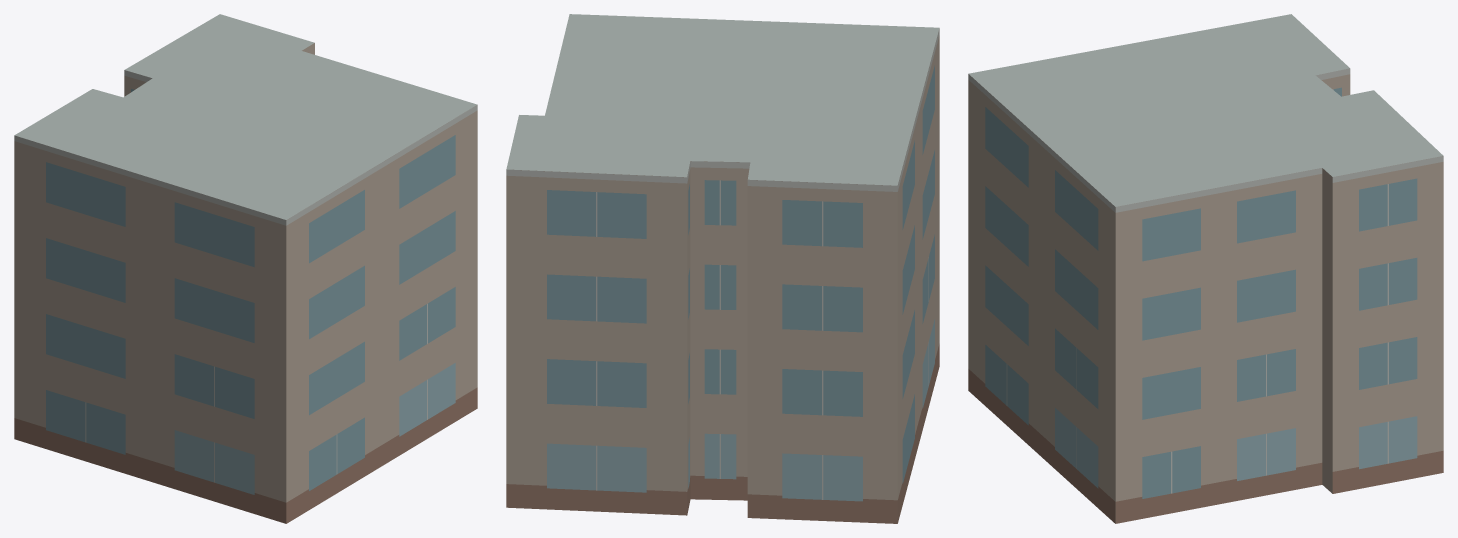
The model's file is survey-upis-33012672.glb.
3 renders of one model, left to right at view 1: azimuth 30°, elevation 25°; view 2: azimuth 150°, elevation 25°; view 3: azimuth 270°, elevation 25°, orthographic. The views are drawn at different scales.
Visible parts, largest first — view 1: survey-upis-33012672.tmp; view 2: survey-upis-33012672.tmp; view 3: survey-upis-33012672.tmp.
Part boxes in pixels (x1,y1,x2,y2): survey-upis-33012672.tmp: (14, 14, 477, 523); survey-upis-33012672.tmp: (506, 14, 939, 523); survey-upis-33012672.tmp: (968, 14, 1443, 523).
Size of the model in its own units: 17.12 by 13.1 by 17.82.
